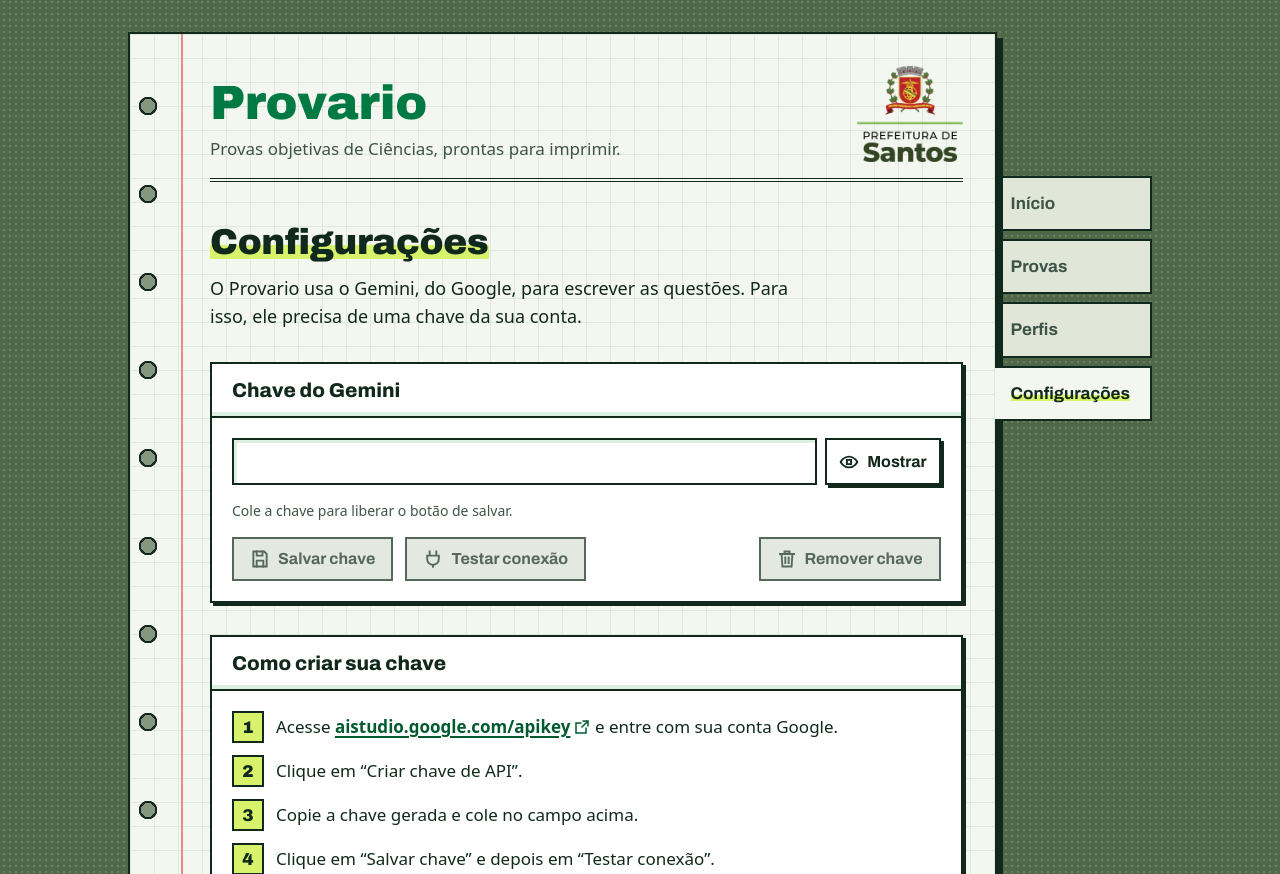
Configurações › salva a chave aparando espaços e mostra feedback
Type "  abc123  " into the password field labelled "Chave do Gemini". click: x=525, y=462
box: [232,438,817,485]
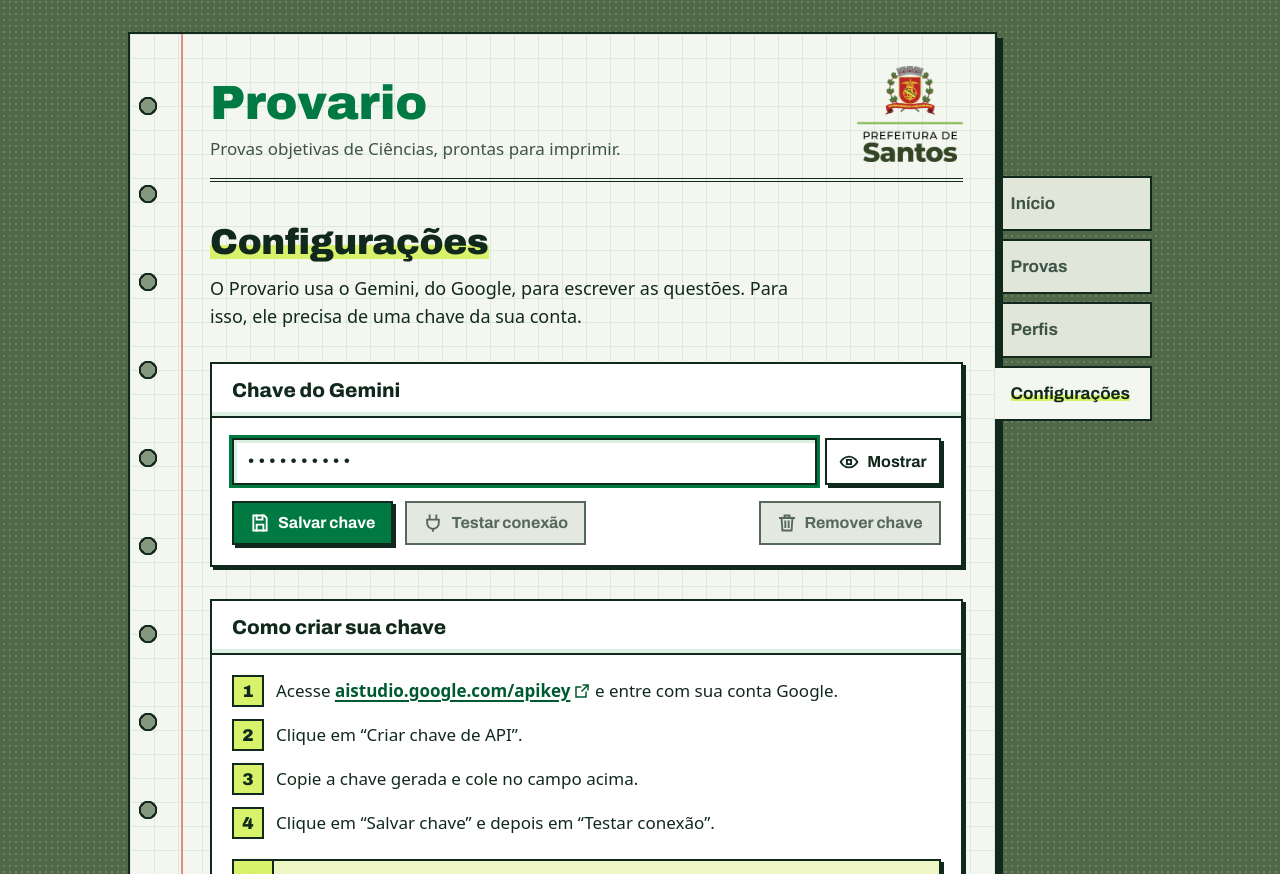
Click the button "Salvar chave". click: x=313, y=523
box: [232,501,394,545]
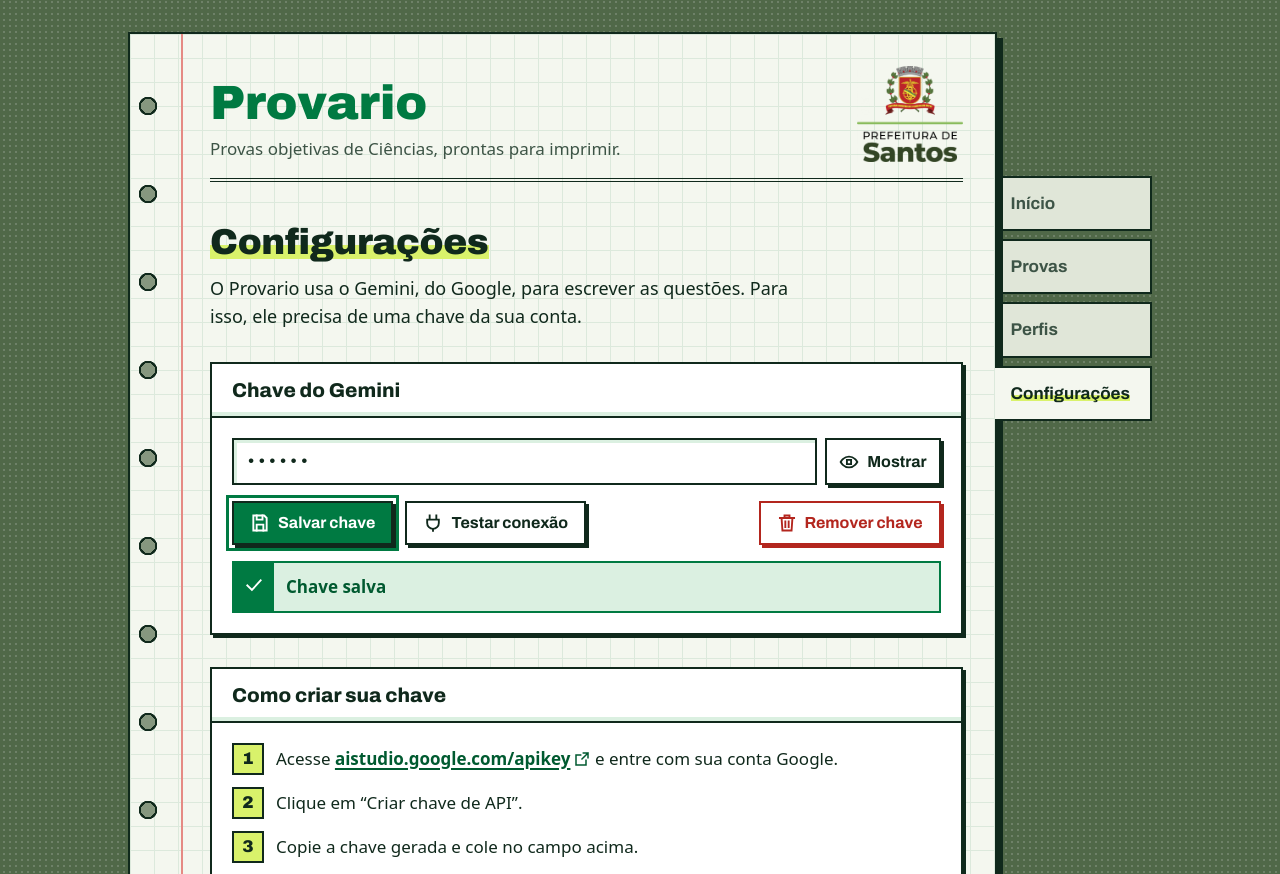
Now the message reads "Chave salva", box [286,575,386,598]
